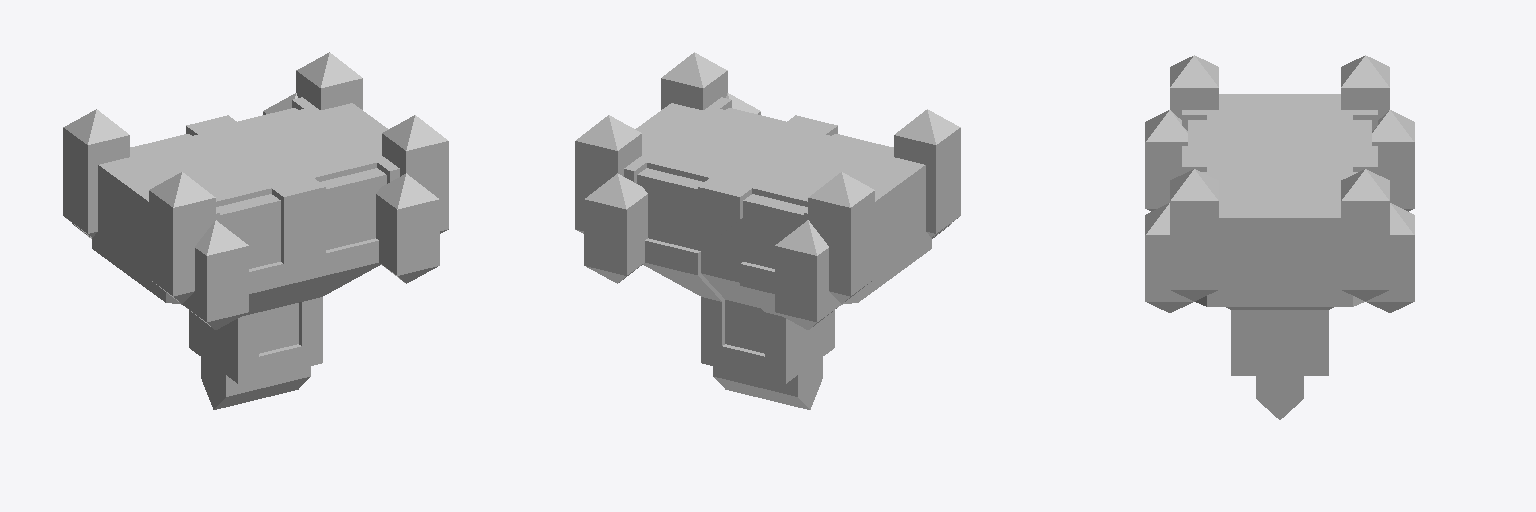
File: torso_basic.obj
The picture shows the model from 3 angles: view 1: azimuth 30°, elevation 25°; view 2: azimuth 150°, elevation 25°; view 3: azimuth 270°, elevation 25°; orthographic projection.
Parts seen in each view (by area): view 1: TORSO_BASIC_Cube.001, TORSO_DECO_DIAMOND_BASIC_Cube.254; view 2: TORSO_BASIC_Cube.001, TORSO_DECO_DIAMOND_BASIC_Cube.254; view 3: TORSO_BASIC_Cube.001, TORSO_DECO_DIAMOND_BASIC_Cube.254.
Part boxes in pixels (left/top/right/bottom): TORSO_BASIC_Cube.001: left=92, top=97, right=399, bottom=409; TORSO_DECO_DIAMOND_BASIC_Cube.254: left=63, top=52, right=448, bottom=329; TORSO_BASIC_Cube.001: left=624, top=97, right=931, bottom=409; TORSO_DECO_DIAMOND_BASIC_Cube.254: left=575, top=52, right=960, bottom=329; TORSO_BASIC_Cube.001: left=1182, top=94, right=1377, bottom=419; TORSO_DECO_DIAMOND_BASIC_Cube.254: left=1145, top=55, right=1414, bottom=312.
Size of the model in its own units: 0.8125 by 0.8124 by 0.6875.